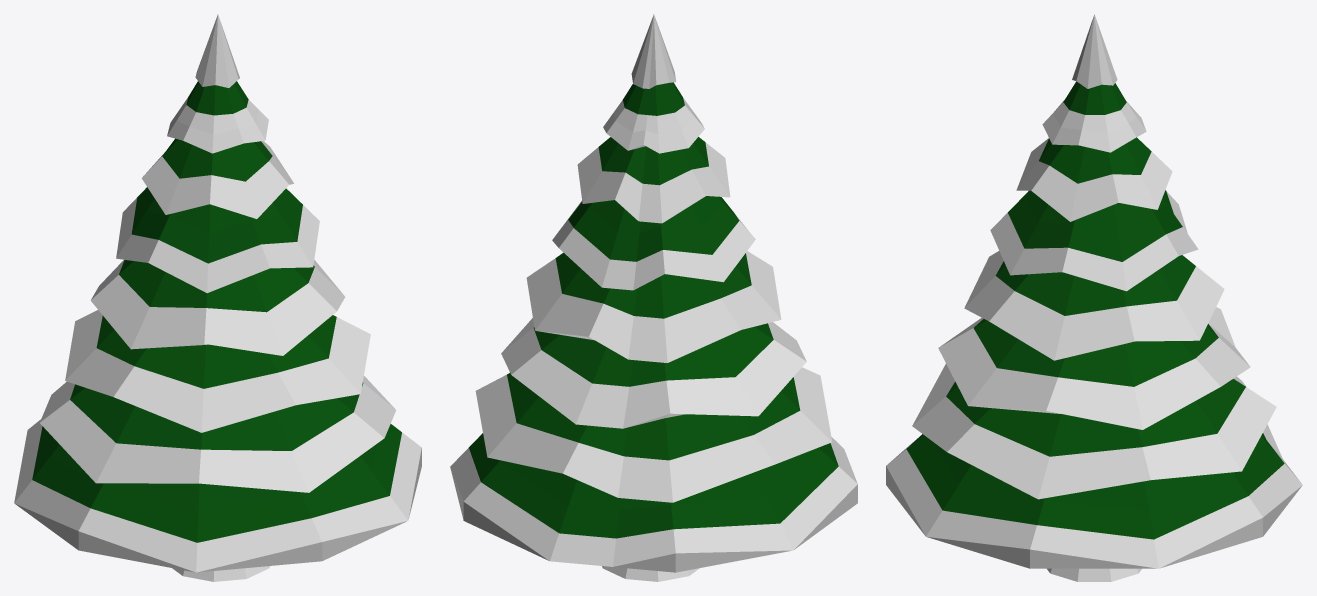
Rendered from arvore.fbx.
3 views of the same model, side by side, from view 1: azimuth 30°, elevation 25°; view 2: azimuth 150°, elevation 25°; view 3: azimuth 270°, elevation 25° (orthographic).
Parts seen in each view (by area): view 1: Cylinder.553, Cylinder.552; view 2: Cylinder.553, Cylinder.552; view 3: Cylinder.553, Cylinder.552.
Part boxes in pixels (x1,y1,x2,y2): Cylinder.553: (14, 14, 421, 572); Cylinder.552: (172, 566, 269, 581); Cylinder.553: (450, 14, 857, 572); Cylinder.552: (602, 566, 699, 581); Cylinder.553: (886, 14, 1302, 568); Cylinder.552: (1047, 568, 1141, 581).
Size of the model in its own units: 434 by 659 by 457.
